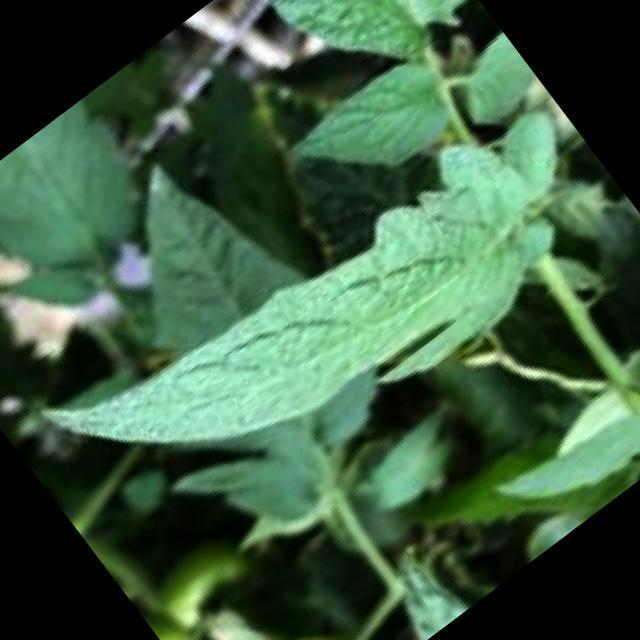Tomato healthy leaf: (44, 104, 561, 444), (298, 60, 450, 168), (273, 0, 464, 65), (448, 29, 537, 121)
